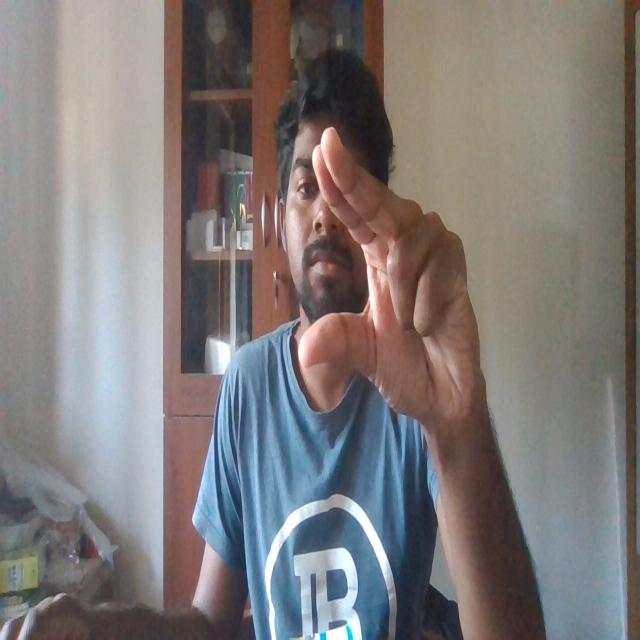No: (290, 118, 490, 436)
